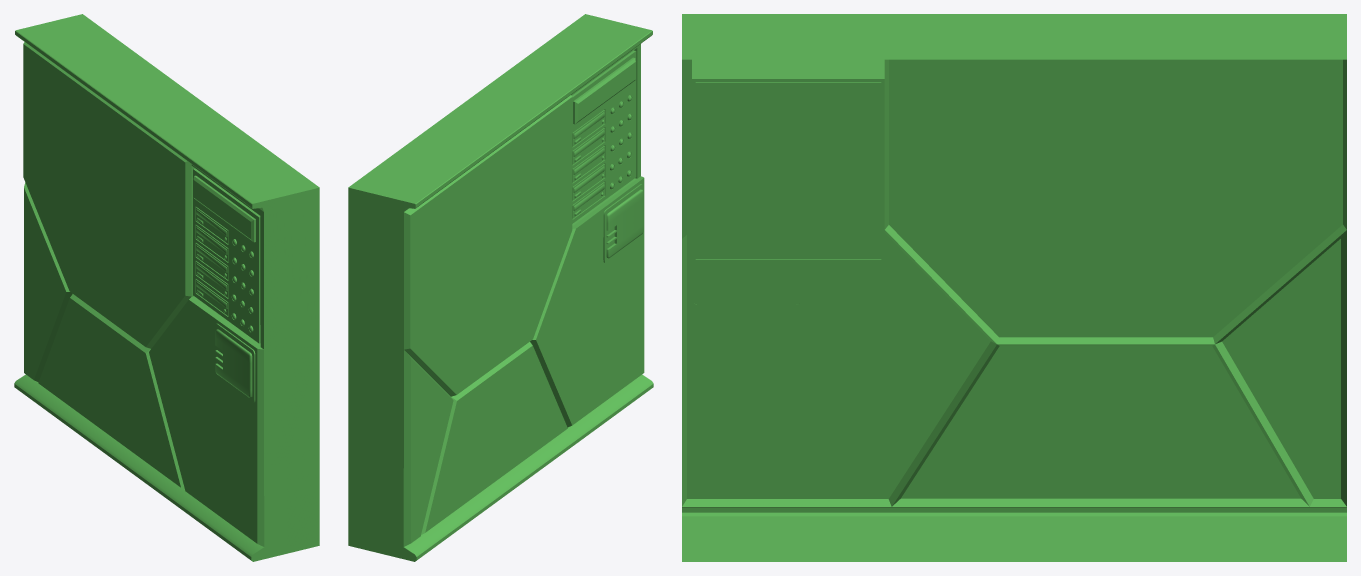
File: pared14.fbx
3 renders of one model, left to right at view 1: azimuth 30°, elevation 25°; view 2: azimuth 150°, elevation 25°; view 3: azimuth 270°, elevation 25°, orthographic. The views are drawn at different scales.
Parts seen in each view (by area): view 1: 028; view 2: 028; view 3: 028.
Boxes of the visible parts, left/top/right/bottom form: 028: left=14, top=14, right=319, bottom=561; 028: left=348, top=14, right=653, bottom=561; 028: left=682, top=14, right=1346, bottom=561.
Size of the model in its own units: 49.99 by 250 by 300.
